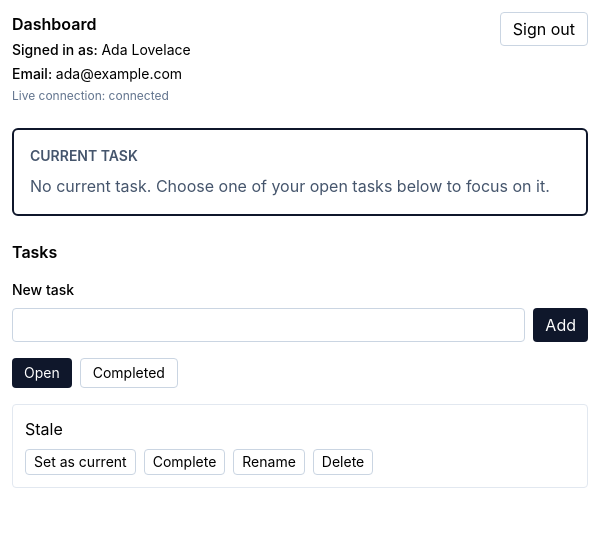
dashboard tasks › shows TASK_NOT_OPEN when the task was completed elsewhere
Click the button "Set as current" at (80, 462), box [25,449,136,475]
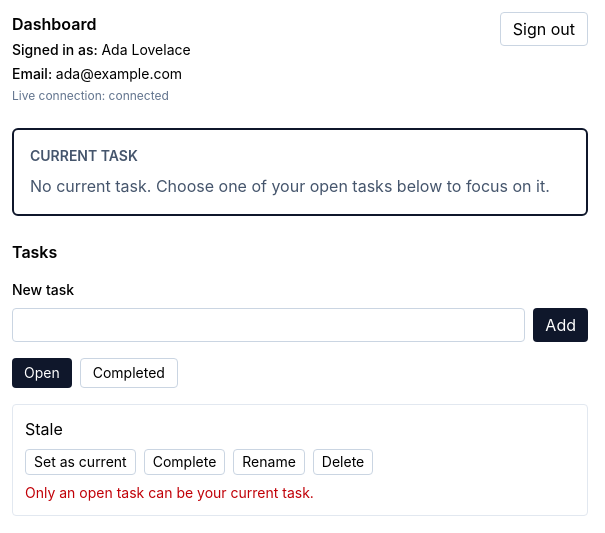
Check: the text "Only an open task can be your current task." is shown, box [25,484,314,501]
